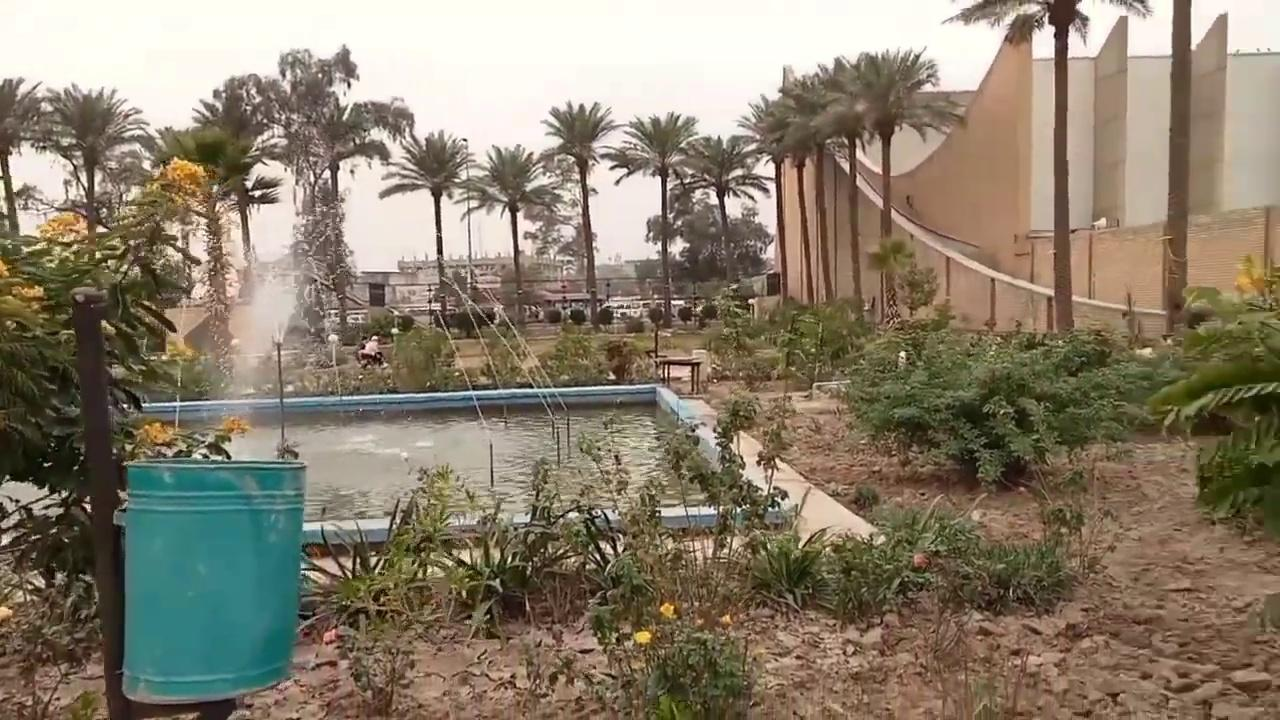fountain: (48, 197, 680, 532)
person: (356, 334, 385, 368)
tree: (0, 83, 231, 716), (941, 0, 1152, 333), (247, 44, 413, 346), (819, 45, 964, 331), (1144, 252, 1279, 542), (148, 123, 245, 384), (292, 98, 390, 344), (735, 68, 829, 309), (189, 74, 283, 302), (608, 110, 700, 326), (377, 128, 475, 328), (34, 81, 150, 244), (454, 142, 560, 315), (539, 99, 620, 323), (808, 62, 873, 322), (679, 133, 771, 285), (535, 146, 597, 274), (0, 75, 46, 236), (866, 234, 915, 332)
